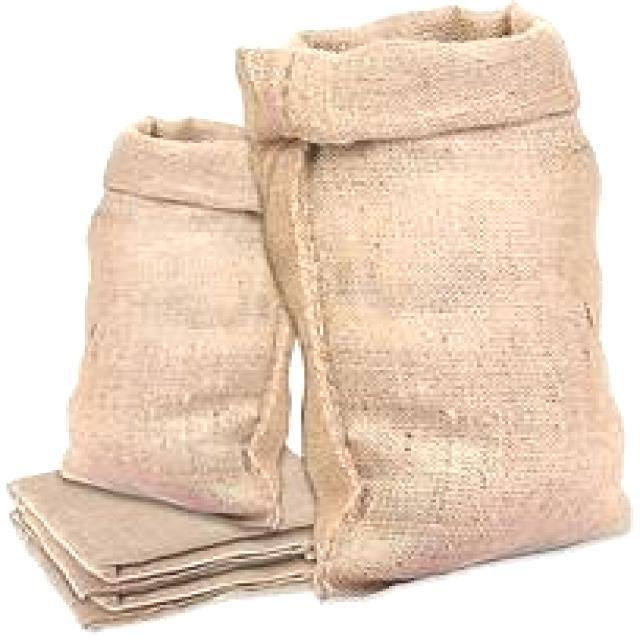gunny_bag: (232, 0, 636, 605)
